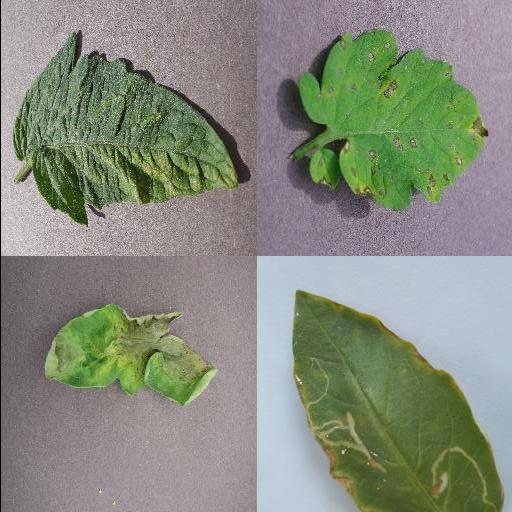Late Blight: (41, 302, 217, 408)
Leaf Miner: (293, 289, 505, 512)
Septoria: (298, 31, 490, 211)
Spider Mites: (12, 32, 238, 224)
